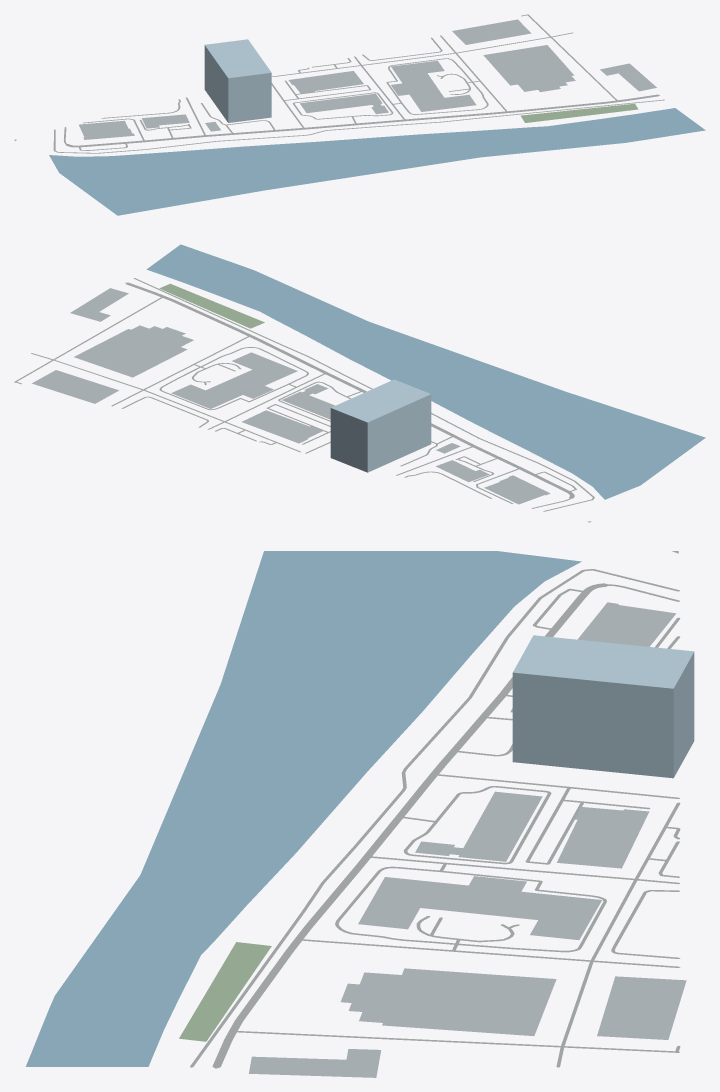
File: 1_-4-known-coarse.glb
3 renders of one model, top to bottom at view 1: azimuth 30°, elevation 25°; view 2: azimuth 150°, elevation 25°; view 3: azimuth 270°, elevation 25°, orthographic. The views are drawn at different scales.
Bounding box in the file's own units: 1022 × 81 × 548.
